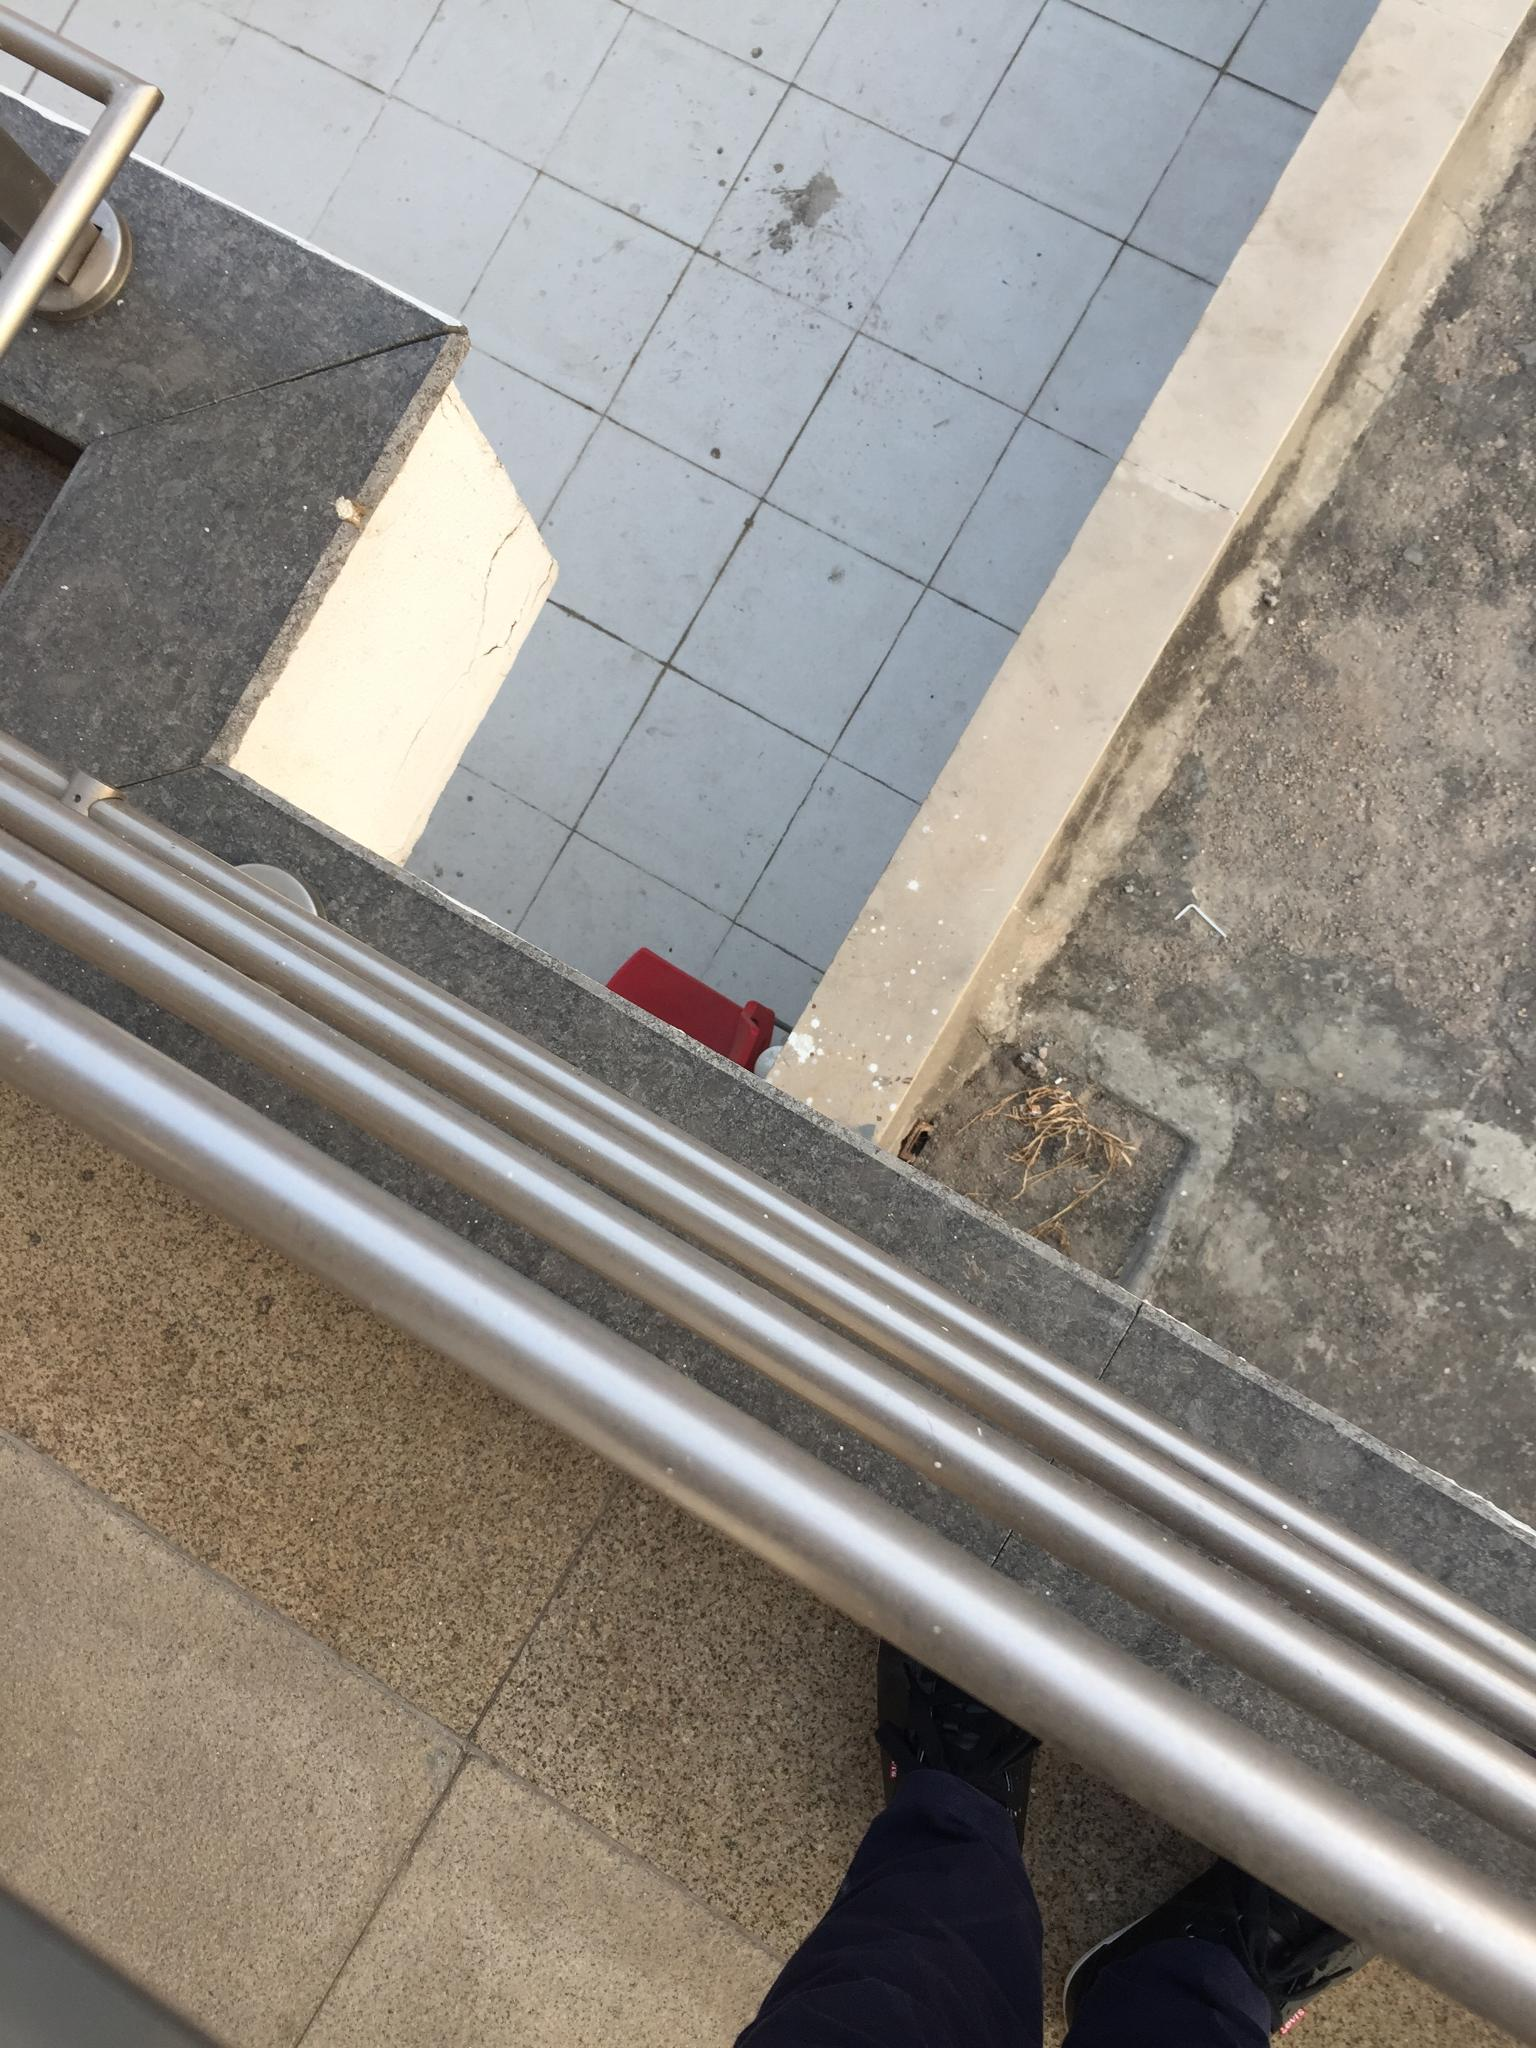chair: (603, 945, 776, 1072)
